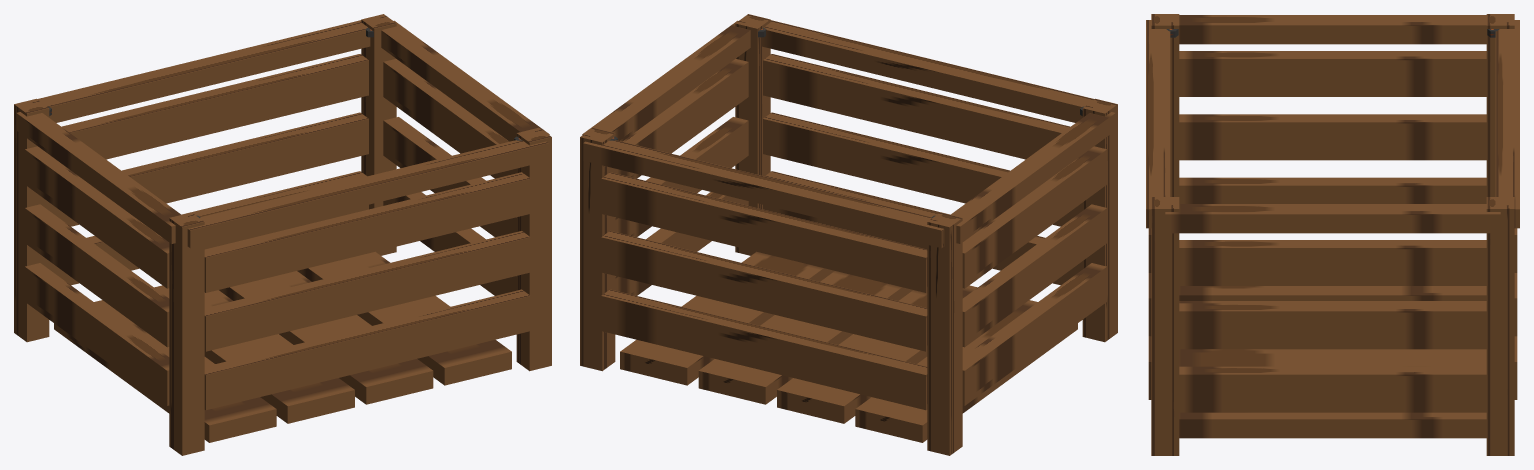
File: parts_crate.glb
3 views of the same model, side by side, from view 1: azimuth 30°, elevation 25°; view 2: azimuth 150°, elevation 25°; view 3: azimuth 270°, elevation 25° (orthographic). The views are drawn at different scales.
Parts seen in each view (by area): view 1: SidePlank.002, SidePlank, SidePlank.004, SidePlank.005, TopRail, SidePlank.003, TopRail.001, CornerPost, EndPlank, EndPlank.002, EndPlank.004, CornerPost.001 (+12 smaller); view 2: SidePlank.003, SidePlank.001, SidePlank.005, SidePlank.004, TopRail.001, SidePlank.002, TopRail, CornerPost.002, EndPlank, EndPlank.002, EndPlank.004, CornerPost.003 (+12 smaller); view 3: EndPlank.001, EndPlank.002, EndPlank.003, EndPlank.004, EndPlank.005, TopRail.003, TopRail.002, EndPlank, FloorPlank.003, CornerPost.001, CornerPost.003, FloorPlank.002 (+6 smaller).
Boxes of the visible parts, x1,y1,x2,y2 form: SidePlank.002: [204, 231, 530, 351]; SidePlank: [204, 289, 530, 410]; SidePlank.004: [204, 172, 530, 292]; SidePlank.005: [61, 54, 368, 159]; TopRail: [187, 140, 548, 248]; SidePlank.003: [49, 112, 368, 226]; TopRail.001: [37, 20, 370, 122]; CornerPost: [169, 212, 204, 455]; EndPlank: [25, 263, 169, 405]; EndPlank.002: [25, 204, 169, 347]; EndPlank.004: [25, 146, 169, 288]; CornerPost.001: [516, 127, 551, 371]; SidePlank.003: [601, 231, 927, 351]; SidePlank.001: [601, 289, 927, 410]; SidePlank.005: [601, 172, 927, 292]; SidePlank.004: [763, 54, 1070, 159]; TopRail.001: [583, 140, 944, 248]; SidePlank.002: [763, 112, 1082, 226]; TopRail: [761, 20, 1094, 122]; CornerPost.002: [927, 212, 962, 455]; EndPlank: [962, 263, 1106, 405]; EndPlank.002: [962, 204, 1106, 347]; EndPlank.004: [962, 146, 1106, 288]; CornerPost.003: [580, 127, 615, 371]; EndPlank.001: [1179, 366, 1486, 412]; EndPlank.002: [1179, 114, 1486, 160]; EndPlank.003: [1179, 303, 1486, 349]; EndPlank.004: [1179, 51, 1486, 96]; EndPlank.005: [1179, 240, 1486, 285]; TopRail.003: [1165, 204, 1500, 233]; TopRail.002: [1179, 15, 1486, 44]; EndPlank: [1179, 177, 1486, 203]; FloorPlank.003: [1179, 412, 1486, 438]; CornerPost.001: [1151, 197, 1179, 455]; CornerPost.003: [1486, 197, 1514, 455]; FloorPlank.002: [1179, 349, 1486, 366].
Size of the model in its own units: 1.35 by 0.78 by 1.07.
Materials: 28 (28 with a texture image).
